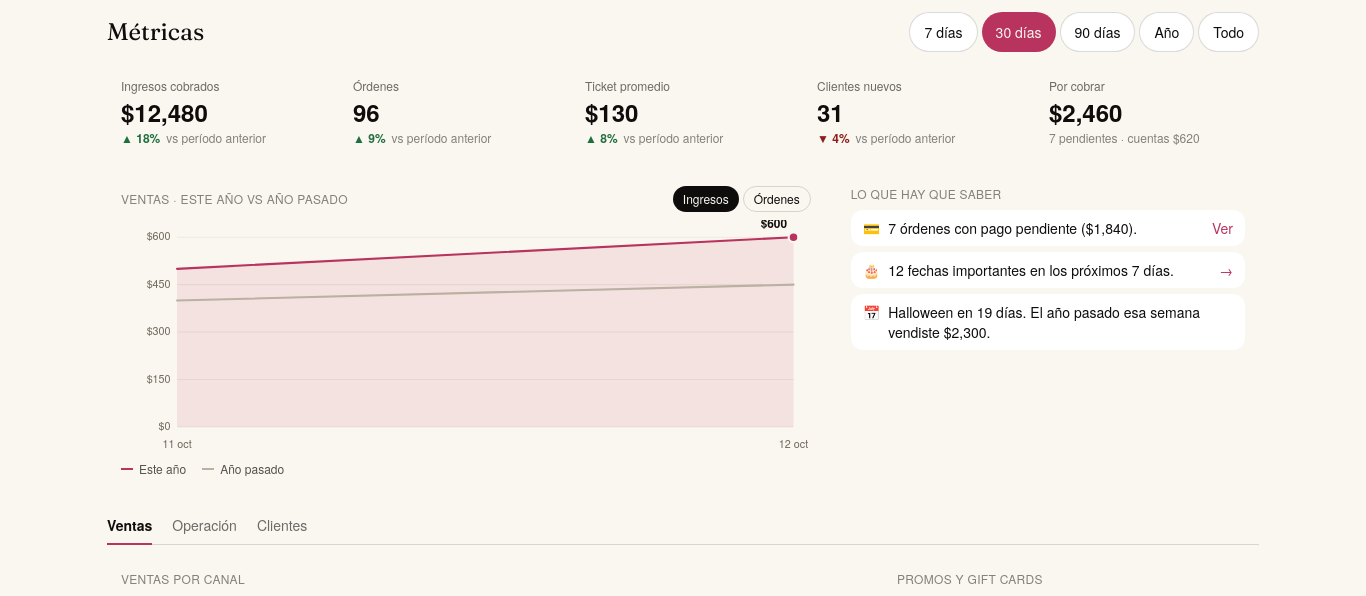
it: MetricsView › ignores a stale response when periods are switched quickly
Click the button "90 días".
click(1097, 32)  # box [1060, 12, 1135, 52]
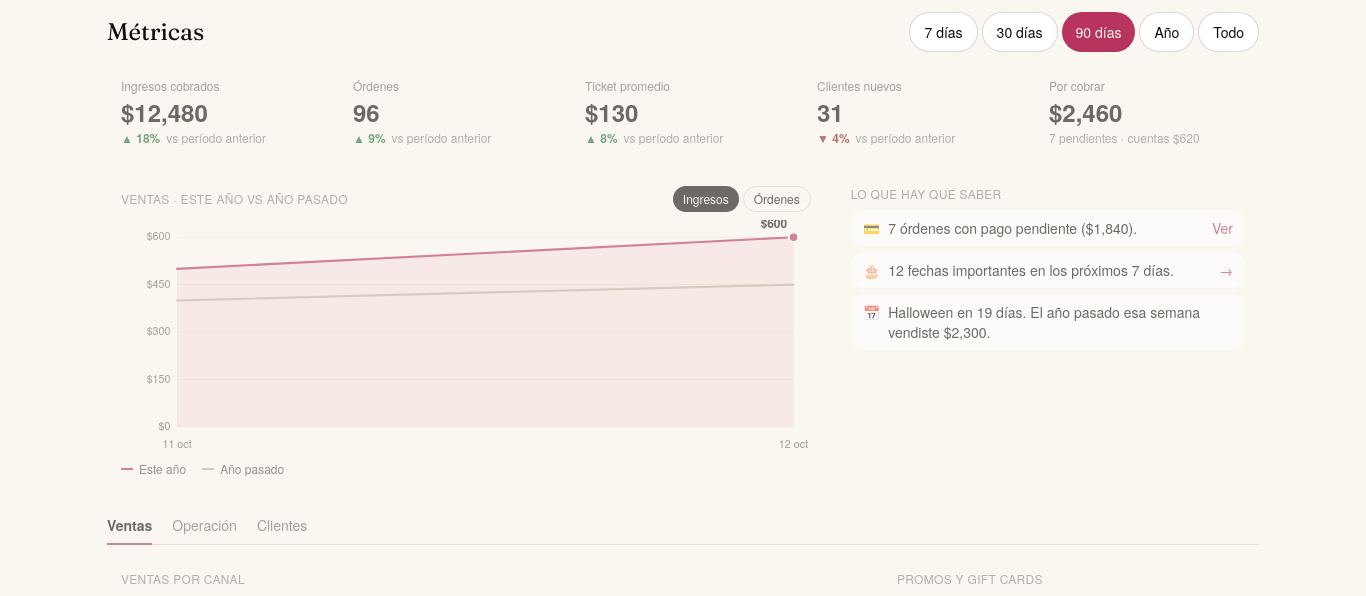
Click the button "7 días".
click(944, 32)  # box [910, 12, 978, 52]
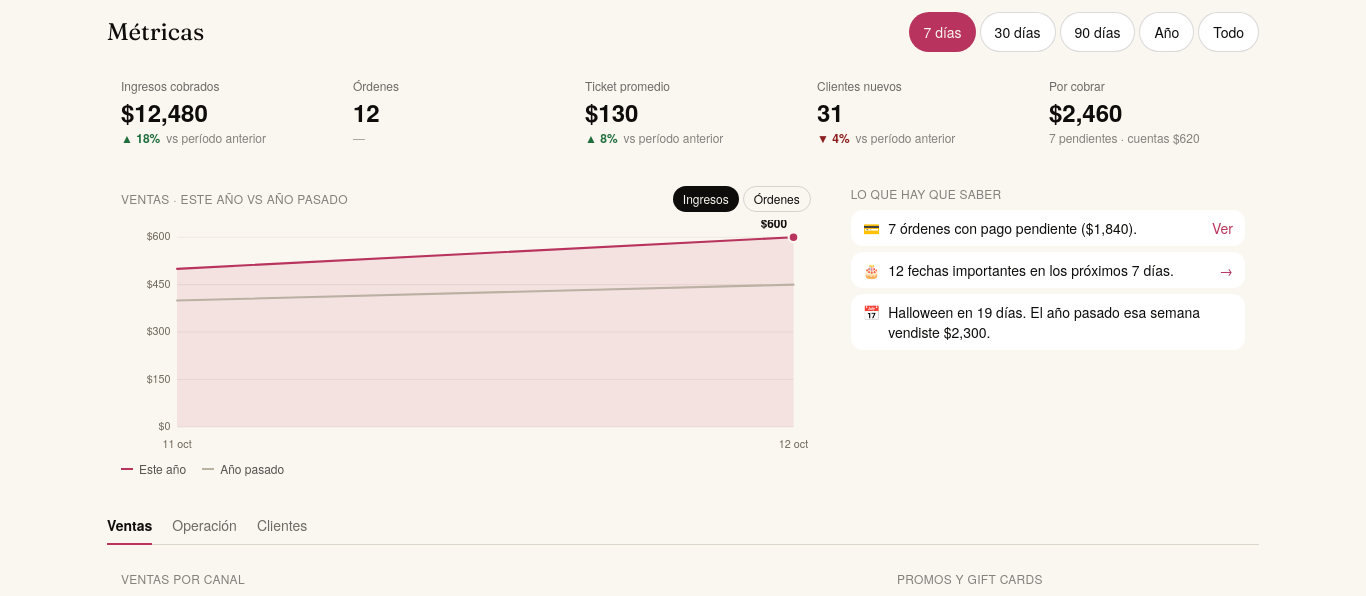
Check: the text "12" is shown, box [353, 95, 380, 129]
